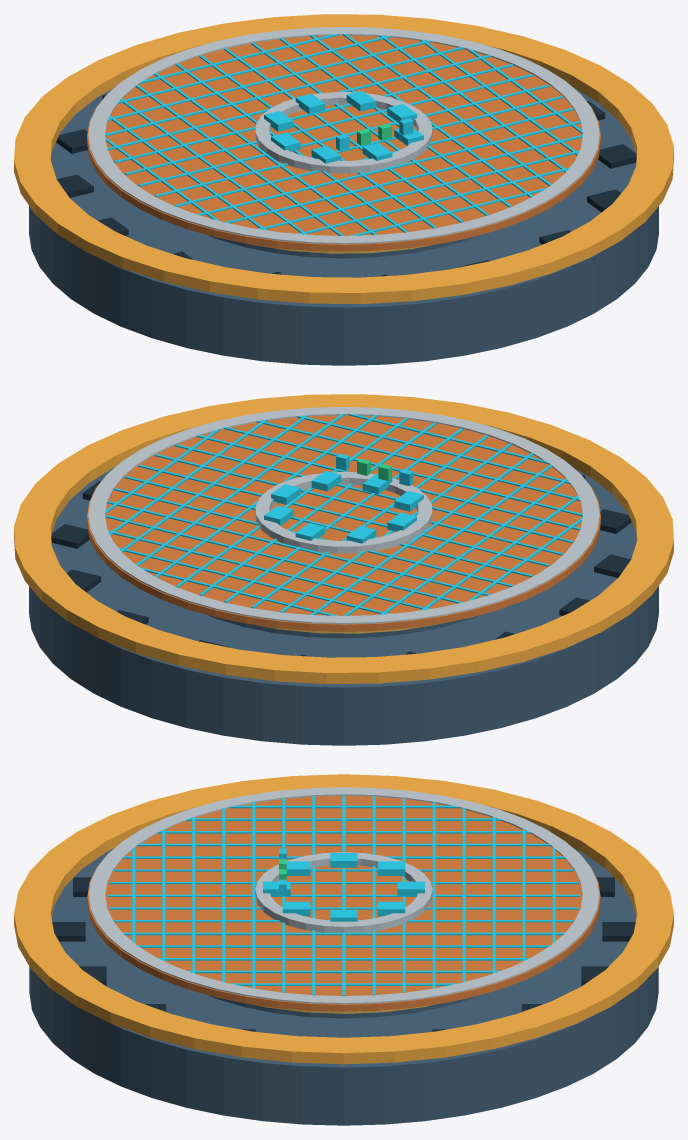
File: 18_L78_CapHeatedWaferSusceptor.fbx
The picture shows the model from 3 angles, top to bottom: view 1: azimuth 30°, elevation 25°; view 2: azimuth 150°, elevation 25°; view 3: azimuth 270°, elevation 25°; orthographic projection.
Parts seen in each view (by area): view 1: CapHeatedWaferSusceptor, CapHeatedWaferSusceptor_Part_0053, CapHeatedWaferSusceptor_Part_0050; view 2: CapHeatedWaferSusceptor, CapHeatedWaferSusceptor_Part_0053, CapHeatedWaferSusceptor_Part_0050; view 3: CapHeatedWaferSusceptor, CapHeatedWaferSusceptor_Part_0053, CapHeatedWaferSusceptor_Part_0050.
Boxes of the visible parts, x1,y1,x2,y2 form: CapHeatedWaferSusceptor: (14,14,673,365); CapHeatedWaferSusceptor_Part_0053: (255,92,432,173); CapHeatedWaferSusceptor_Part_0050: (208,235,479,258); CapHeatedWaferSusceptor: (14,394,673,745); CapHeatedWaferSusceptor_Part_0053: (255,472,432,553); CapHeatedWaferSusceptor_Part_0050: (208,615,479,638); CapHeatedWaferSusceptor: (14,774,673,1125); CapHeatedWaferSusceptor_Part_0053: (255,852,432,932); CapHeatedWaferSusceptor_Part_0050: (208,995,479,1018).
Size of the model in its own units: 216 by 45.52 by 216.
